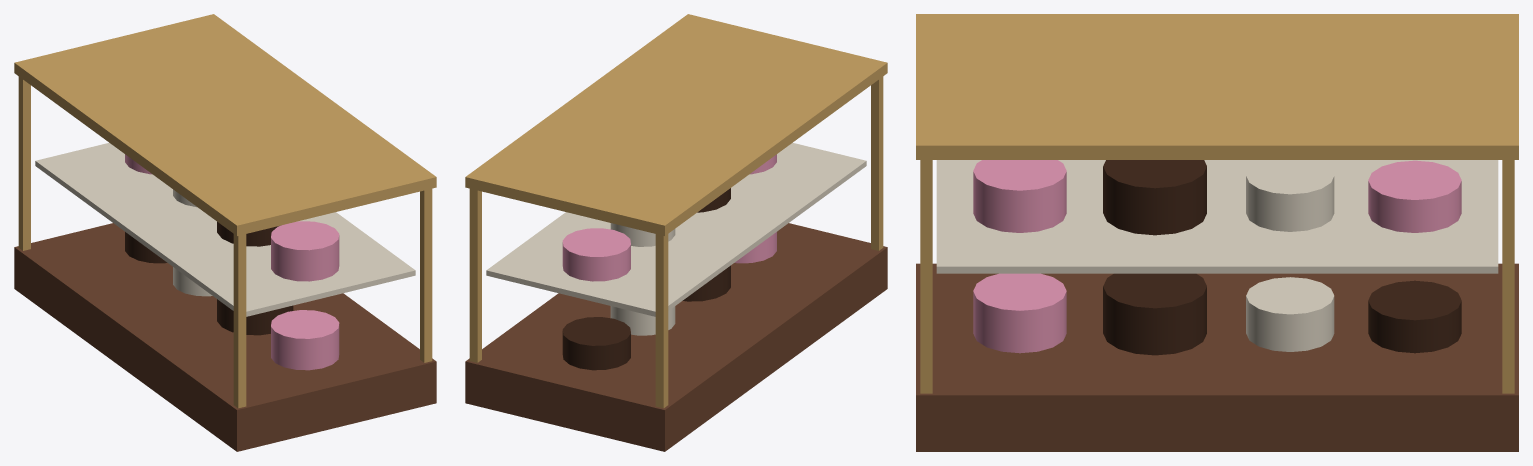
The model's file is cake_case.glb.
3 views of the same model, side by side, from view 1: azimuth 30°, elevation 25°; view 2: azimuth 150°, elevation 25°; view 3: azimuth 270°, elevation 25° (orthographic). The views are drawn at different scales.
Parts seen in each view (by area): view 1: Lid_LOD0, Base_LOD0, Shelf_LOD0, Cake_LOD0.004, Cake_LOD0, Post_LOD0, Post_LOD0.002, Post_LOD0.001, Cake_LOD0.001, Cake_LOD0.005, Cake_LOD0.003, Cake_LOD0.002; view 2: Lid_LOD0, Base_LOD0, Shelf_LOD0, Cake_LOD0.007, Cake_LOD0.003, Post_LOD0.001, Post_LOD0.003, Post_LOD0, Cake_LOD0.002, Cake_LOD0.001, Cake_LOD0.006, Cake_LOD0; view 3: Lid_LOD0, Base_LOD0, Shelf_LOD0, Cake_LOD0.001, Cake_LOD0.005, Cake_LOD0, Cake_LOD0.004, Cake_LOD0.003, Cake_LOD0.007, Cake_LOD0.002, Cake_LOD0.006, Post_LOD0.002 (+1 smaller).
Part boxes in pixels (x1=…): Lid_LOD0: x1=14, y1=14, x2=436, y2=235; Base_LOD0: x1=14, y1=223, x2=436, y2=451; Shelf_LOD0: x1=35, y1=142, x2=415, y2=316; Cake_LOD0.004: x1=271, y1=221, x2=339, y2=281; Cake_LOD0: x1=271, y1=310, x2=339, y2=370; Post_LOD0: x1=233, y1=234, x2=246, y2=408; Post_LOD0.002: x1=420, y1=188, x2=432, y2=362; Post_LOD0.001: x1=18, y1=76, x2=30, y2=250; Cake_LOD0.001: x1=217, y1=299, x2=293, y2=335; Cake_LOD0.005: x1=217, y1=222, x2=278, y2=246; Cake_LOD0.003: x1=125, y1=232, x2=167, y2=263; Cake_LOD0.002: x1=173, y1=267, x2=212, y2=296; Lid_LOD0: x1=465, y1=14, x2=887, y2=235; Base_LOD0: x1=465, y1=223, x2=887, y2=451; Shelf_LOD0: x1=486, y1=142, x2=866, y2=316; Cake_LOD0.007: x1=562, y1=228, x2=630, y2=281; Cake_LOD0.003: x1=562, y1=317, x2=630, y2=370; Post_LOD0.001: x1=655, y1=234, x2=668, y2=408; Post_LOD0.003: x1=469, y1=188, x2=481, y2=362; Post_LOD0: x1=871, y1=76, x2=883, y2=250; Cake_LOD0.002: x1=610, y1=306, x2=675, y2=335; Cake_LOD0.001: x1=682, y1=265, x2=730, y2=301; Cake_LOD0.006: x1=610, y1=223, x2=675, y2=246; Cake_LOD0: x1=734, y1=232, x2=776, y2=263; Lid_LOD0: x1=916, y1=14, x2=1518, y2=159; Base_LOD0: x1=916, y1=263, x2=1518, y2=451; Shelf_LOD0: x1=936, y1=160, x2=1498, y2=273; Cake_LOD0.001: x1=1103, y1=273, x2=1206, y2=355; Cake_LOD0.005: x1=1103, y1=160, x2=1206, y2=235; Cake_LOD0: x1=973, y1=273, x2=1066, y2=353; Cake_LOD0.004: x1=973, y1=160, x2=1066, y2=232; Cake_LOD0.003: x1=1368, y1=280, x2=1461, y2=353; Cake_LOD0.007: x1=1368, y1=160, x2=1461, y2=232; Cake_LOD0.002: x1=1246, y1=277, x2=1334, y2=351; Cake_LOD0.006: x1=1246, y1=160, x2=1334, y2=231; Post_LOD0.002: x1=920, y1=160, x2=932, y2=393.
Bounding box in the file's own units: 0.6 × 0.65 × 1.16.
